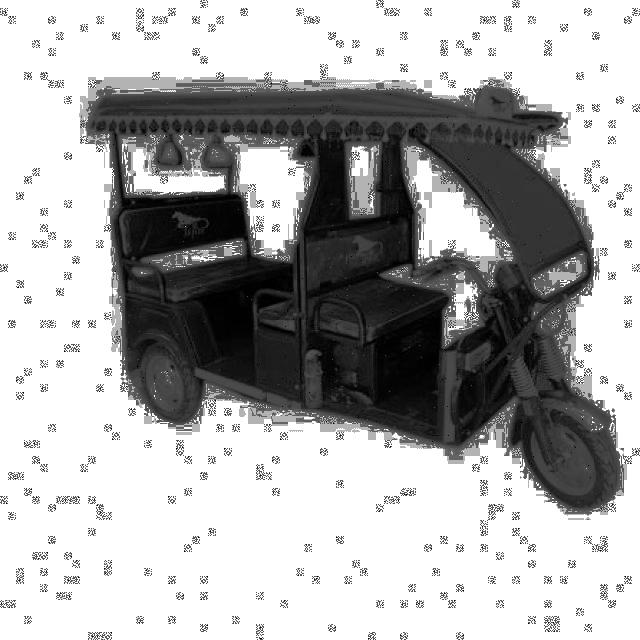Toto: (98, 86, 630, 512)
